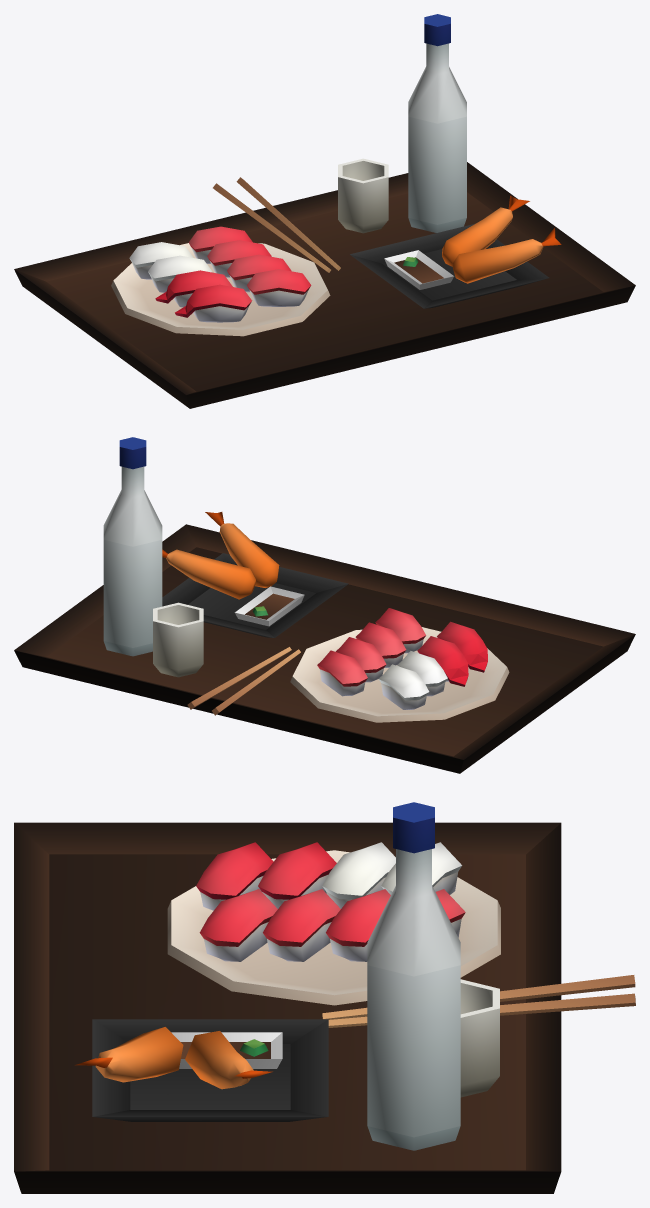
Rendered from SK_Food_002.FBX.
3 renders of one model, top to bottom at view 1: azimuth 30°, elevation 25°; view 2: azimuth 150°, elevation 25°; view 3: azimuth 270°, elevation 25°, orthographic. The views are drawn at different scales.
Parts seen in each view (by area): view 1: SK_Food_002; view 2: SK_Food_002; view 3: SK_Food_002.
Boxes of the visible parts, x1,y1,x2,y2 form: SK_Food_002: (14, 14, 635, 408); SK_Food_002: (14, 437, 635, 773); SK_Food_002: (14, 802, 635, 1193).
Bounding box in the file's own units: 52.41 × 23.11 × 39.49.
Materials: 1 (1 with a texture image).
